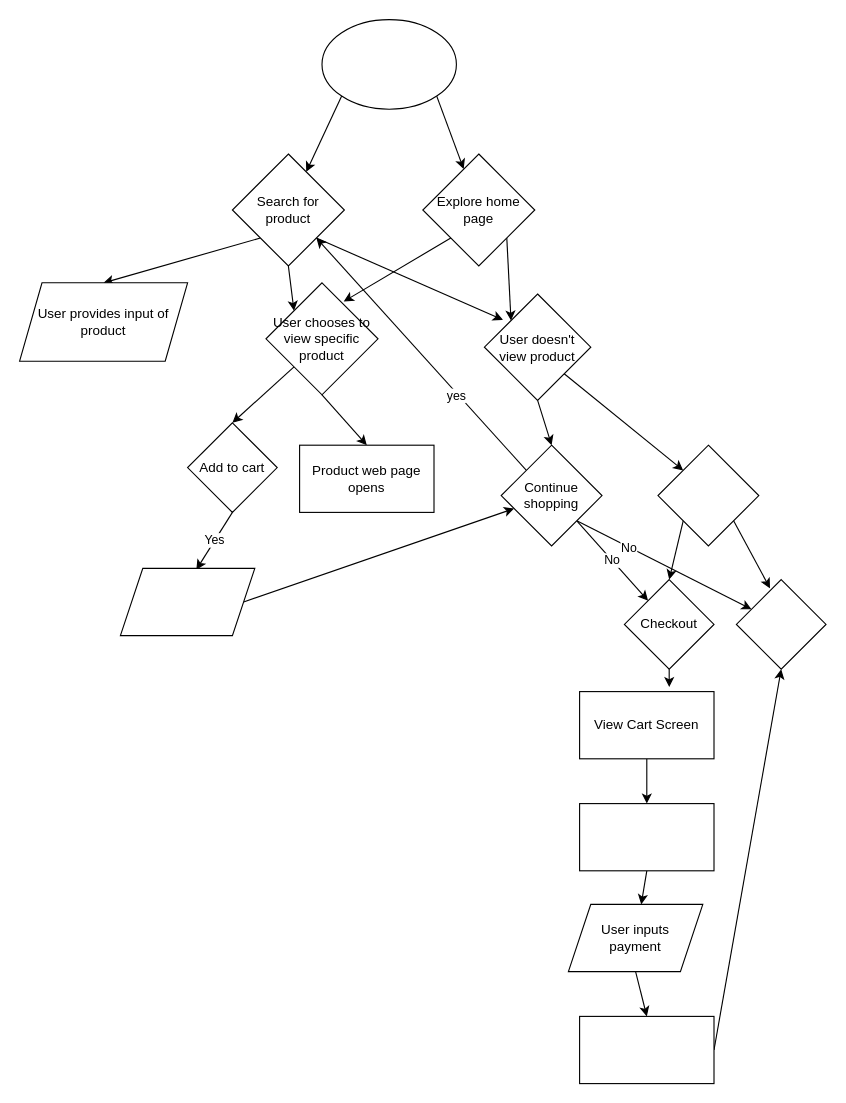
This 846x1103 diagram has some shape labels left out. The centre of each missing label's shape, as x and y in pixels:
Don't continue shopping: (x=708, y=495)
Leave website: (x=780, y=623)
Order confirmation screen: (x=646, y=1049)
Specific product added to cart: (x=187, y=601)
User enters website: (x=388, y=63)
View Payment Screen: (x=646, y=836)
